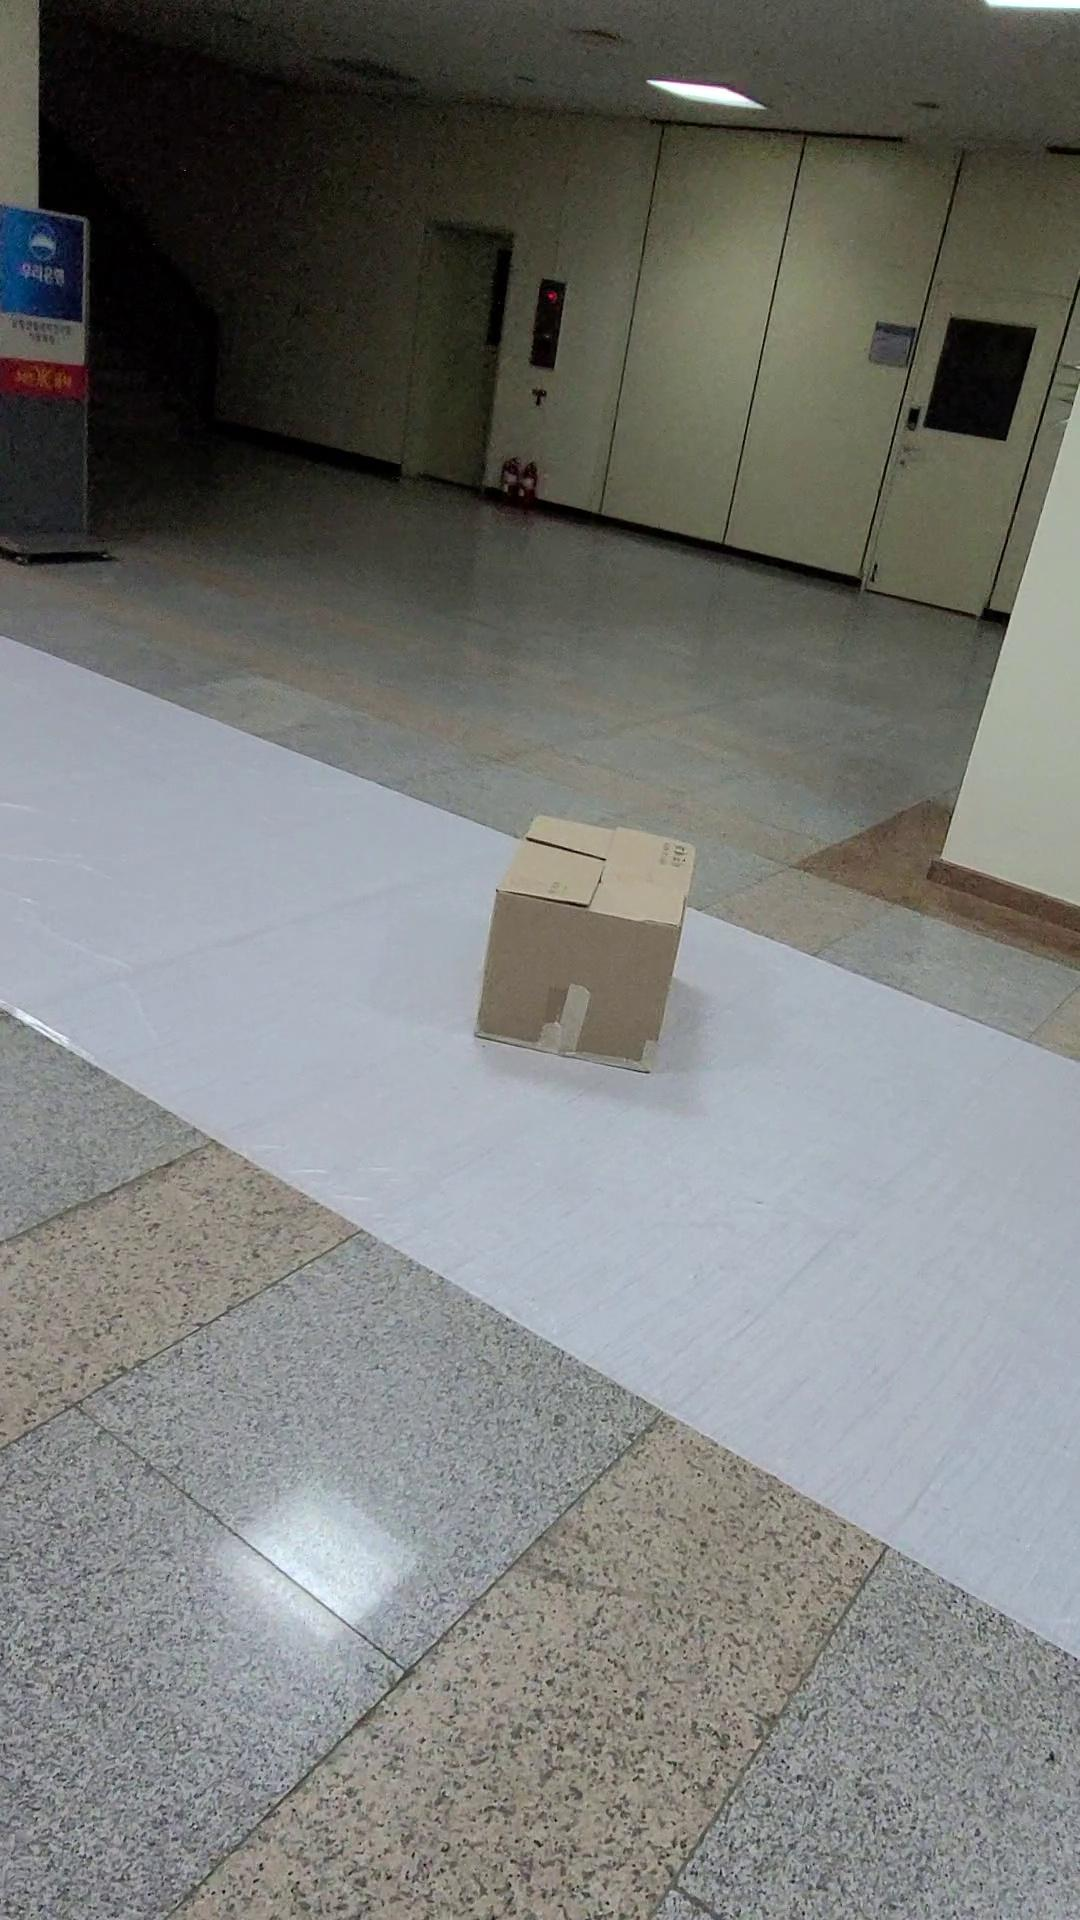Box: (454, 800, 719, 1117)
